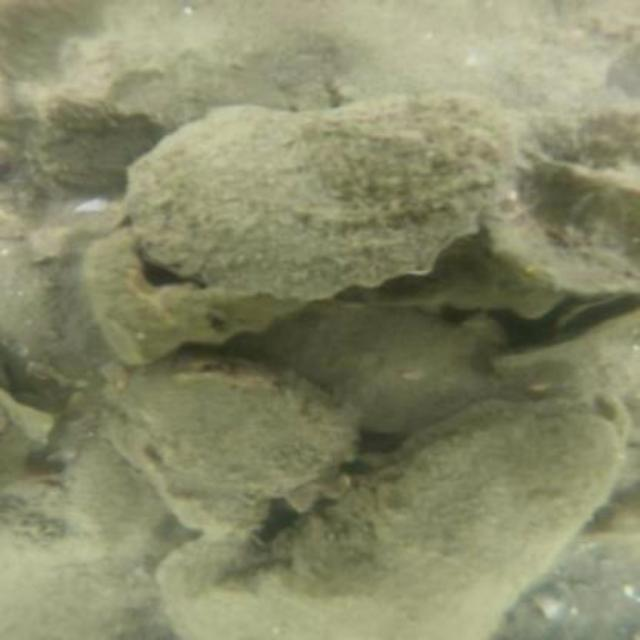Oyster-Closed: (288, 383, 638, 623), (125, 97, 523, 298), (151, 518, 508, 638), (108, 370, 356, 528), (252, 308, 497, 433), (483, 142, 638, 297), (485, 302, 638, 445)
Oyster-Open: (77, 221, 566, 371), (547, 287, 638, 343)
